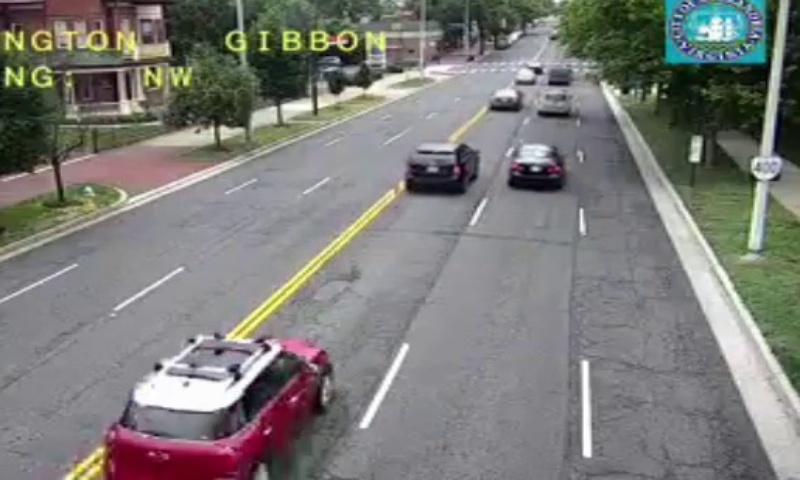car: (102, 333, 331, 480), (407, 142, 477, 186), (507, 144, 563, 185), (538, 90, 571, 115), (490, 87, 519, 108)
